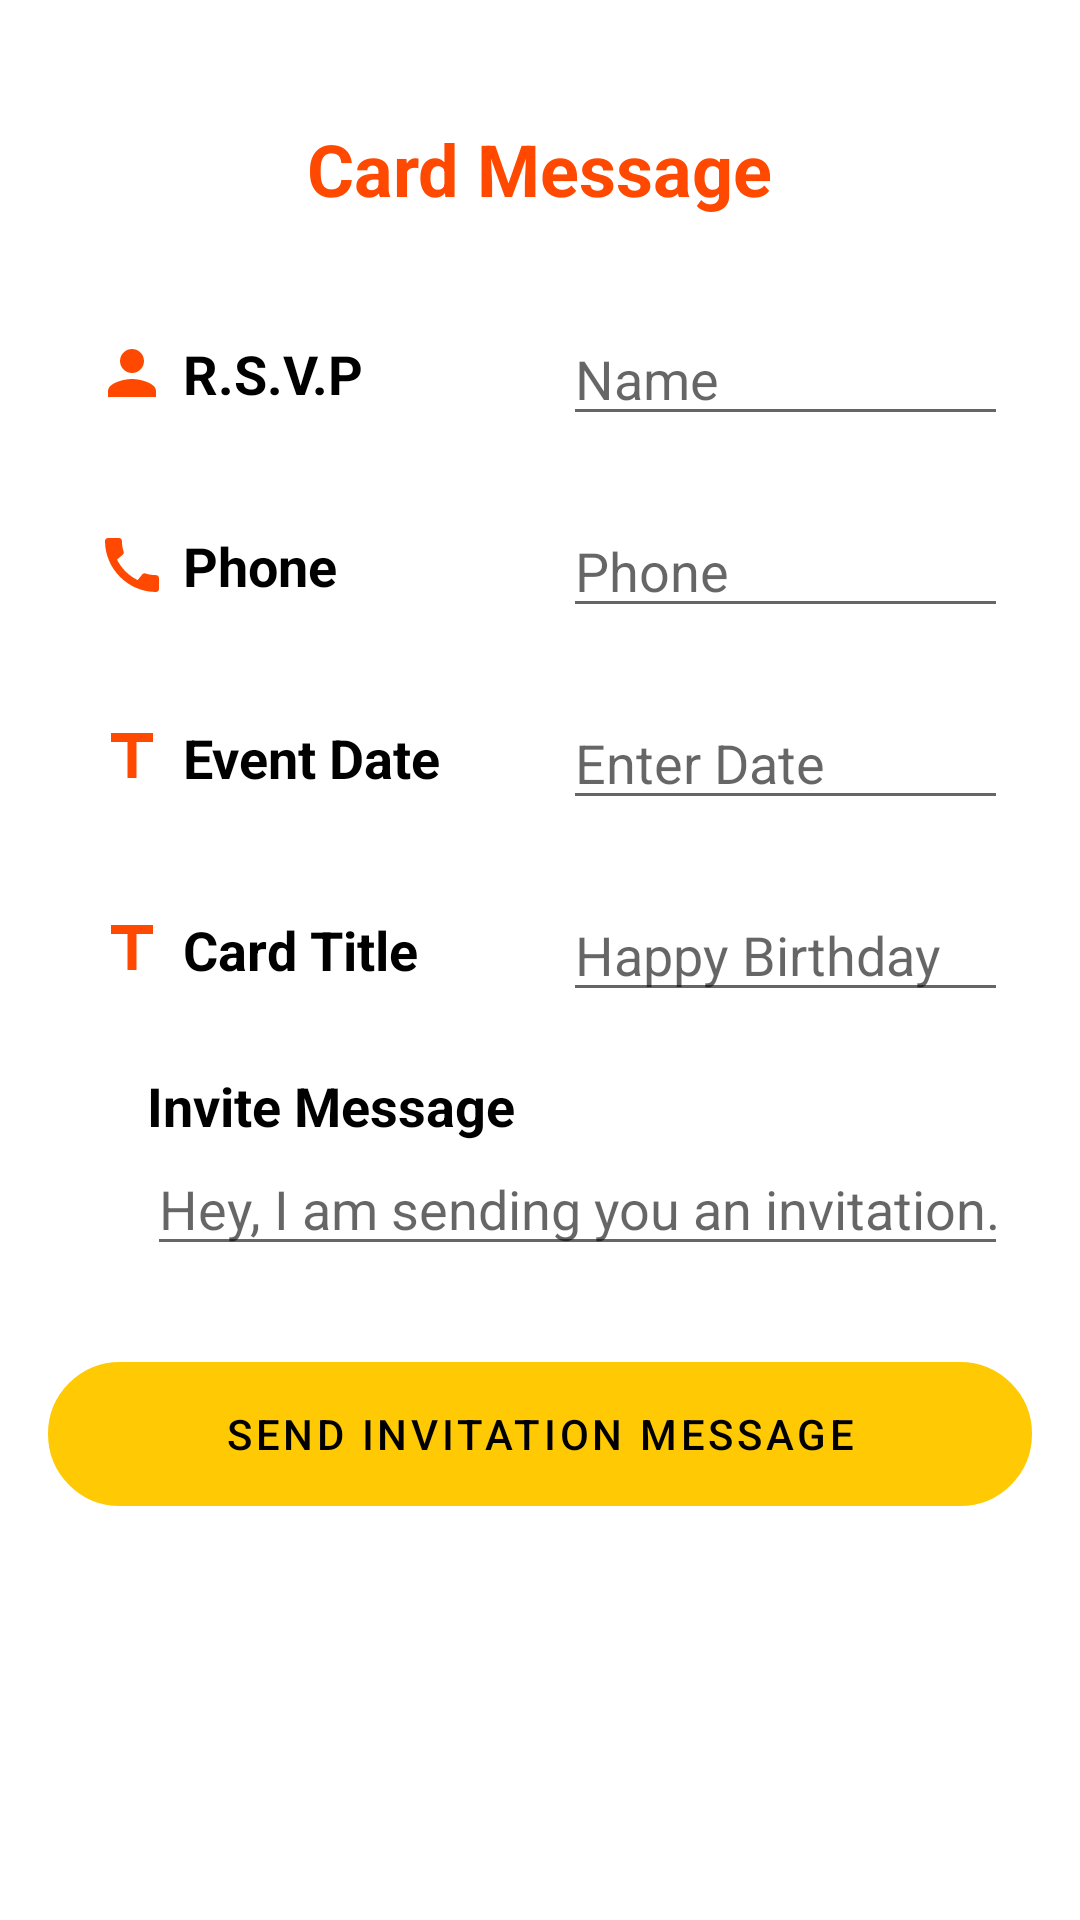

Icons on this 1080px×1920px Android screen, each with its box as {"x1": x1, "y1": y1, "x2": x2, "y2": y2}:
person: {"x1": 108, "y1": 349, "x2": 156, "y2": 397}
